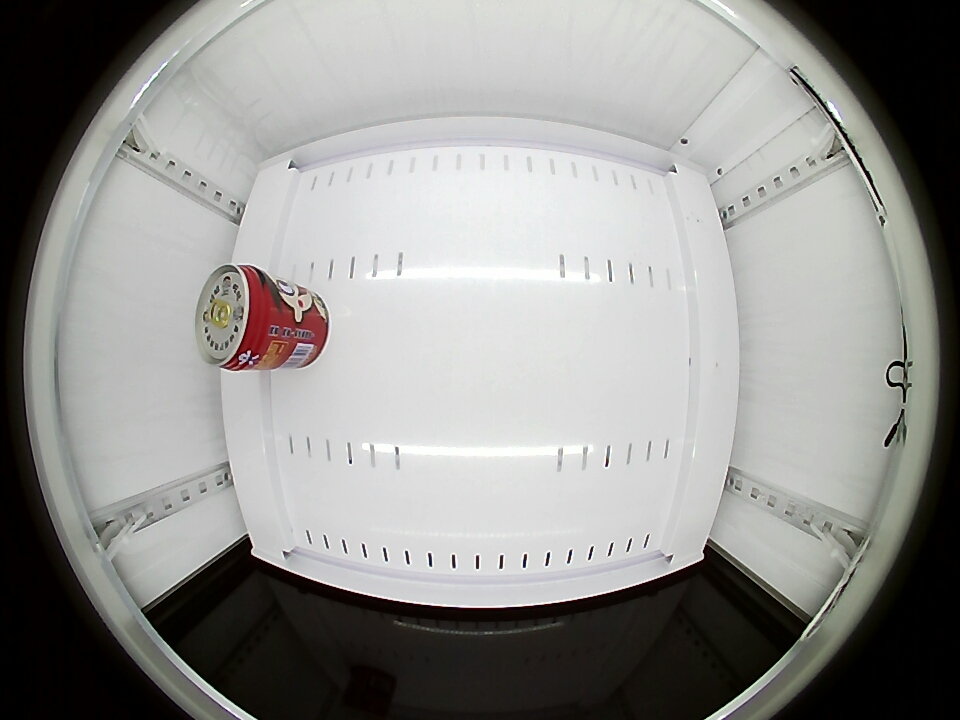wangzainiunai: (196, 263, 290, 372)
